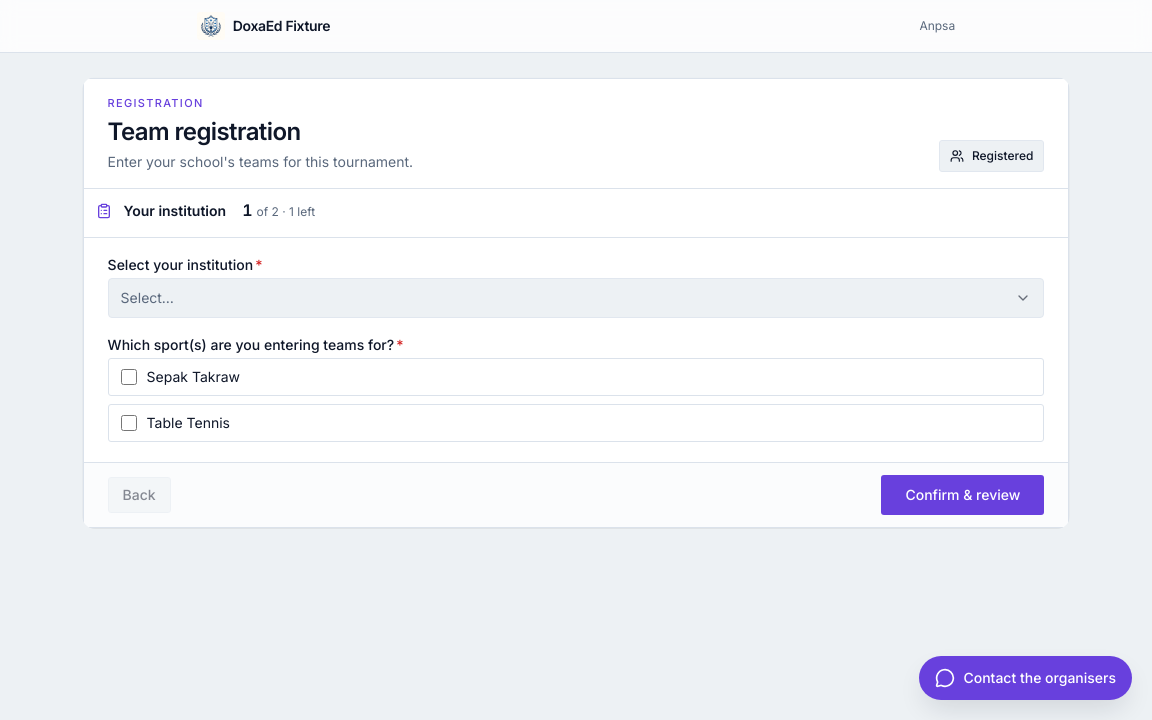
Scenario: PublicFormPage › scopes the team form's sports/categories to the selected school, pre-selected
Expected: the heading "Team registration" is shown, [108, 116, 300, 146]
Expected: the checkbox labelled "Table Tennis" is not checked, [121, 414, 137, 430]
Click the button with aria-label "select your institution": x=147, y=297 [108, 278, 1044, 318]
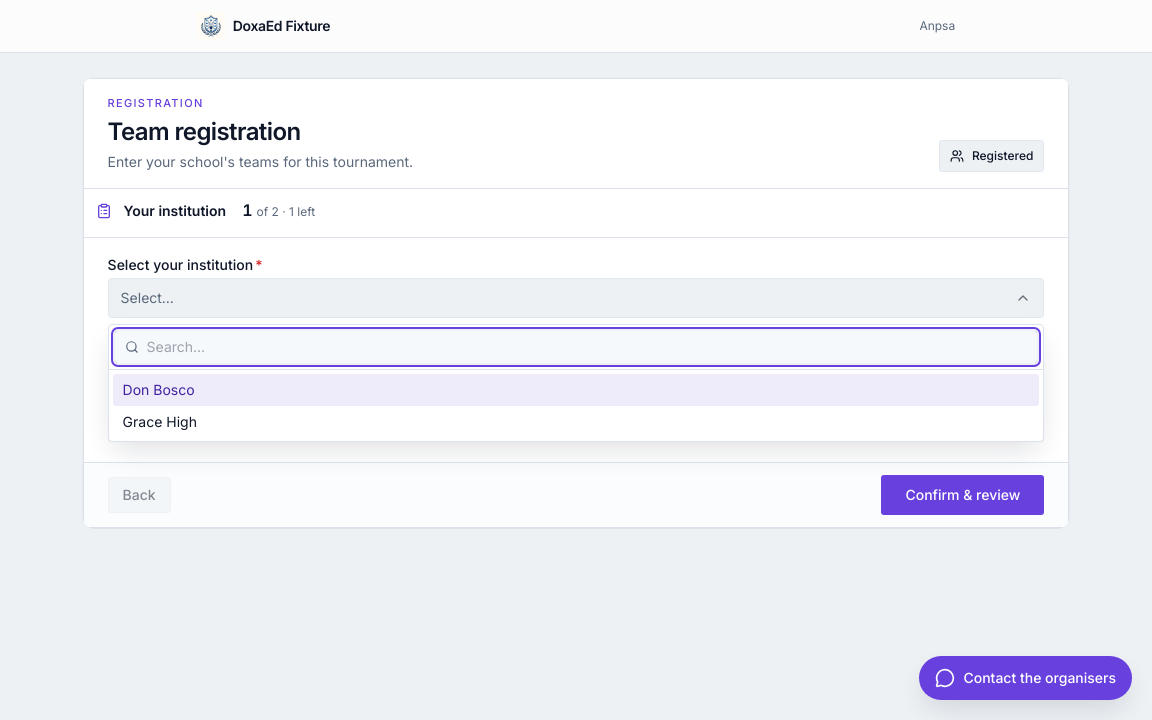
Click the option "Don Bosco": x=159, y=389 [113, 374, 1039, 406]
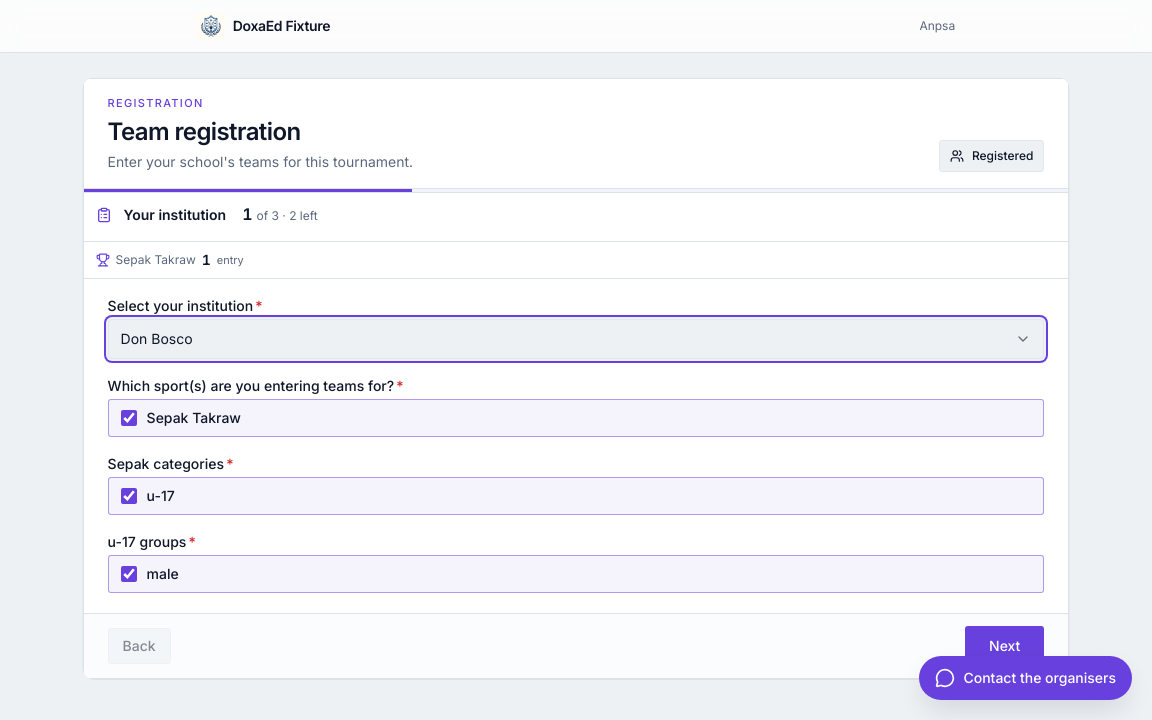
Expected: the checkbox labelled "Sepak Takraw" is checked, [121, 410, 137, 426]
Expected: the text labelled "Table Tennis" is gone
Expected: the checkbox labelled "u-17" is checked, [121, 488, 137, 504]
Note: Next → straight to the team/player section, no manual selection needed.
Click the button "Next": x=1005, y=646 [965, 626, 1044, 666]
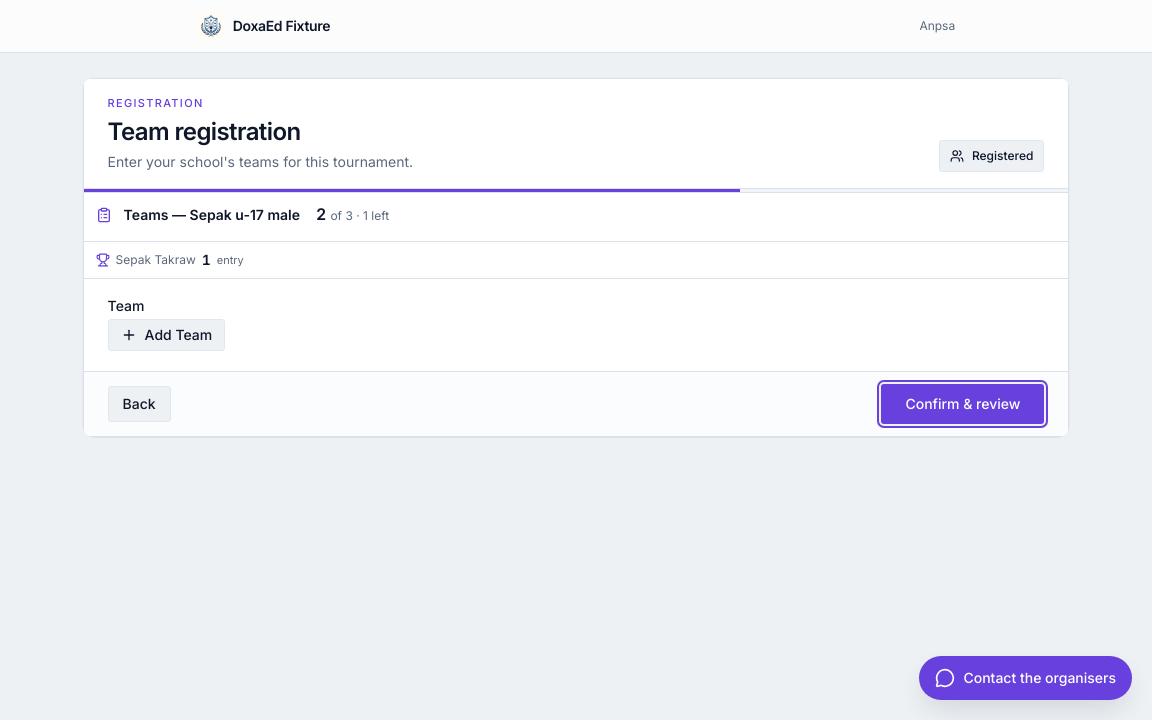
Expected: the heading "Teams — Sepak u-17 male" is shown, [124, 204, 300, 224]
Note: Switching school re-scopes: Grace High registered Table Tennis only.
Click the button "Back": x=139, y=404 [108, 386, 171, 422]
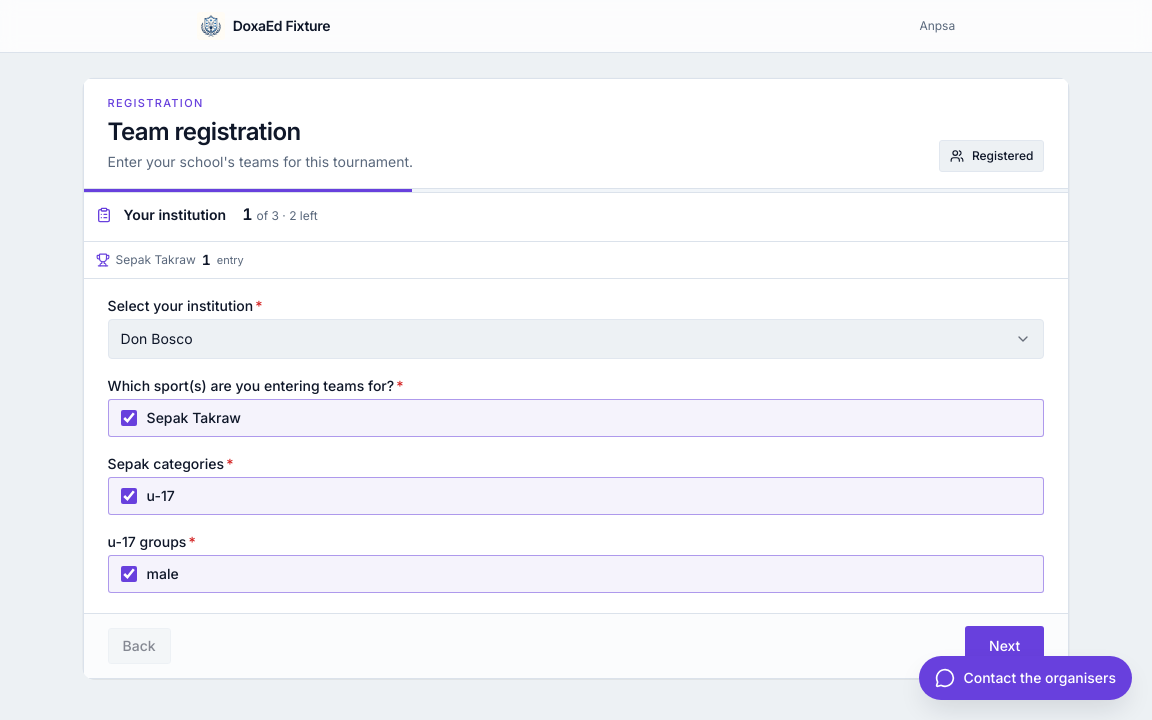
Click the button with aria-label "select your institution": x=157, y=338 [108, 318, 1044, 358]
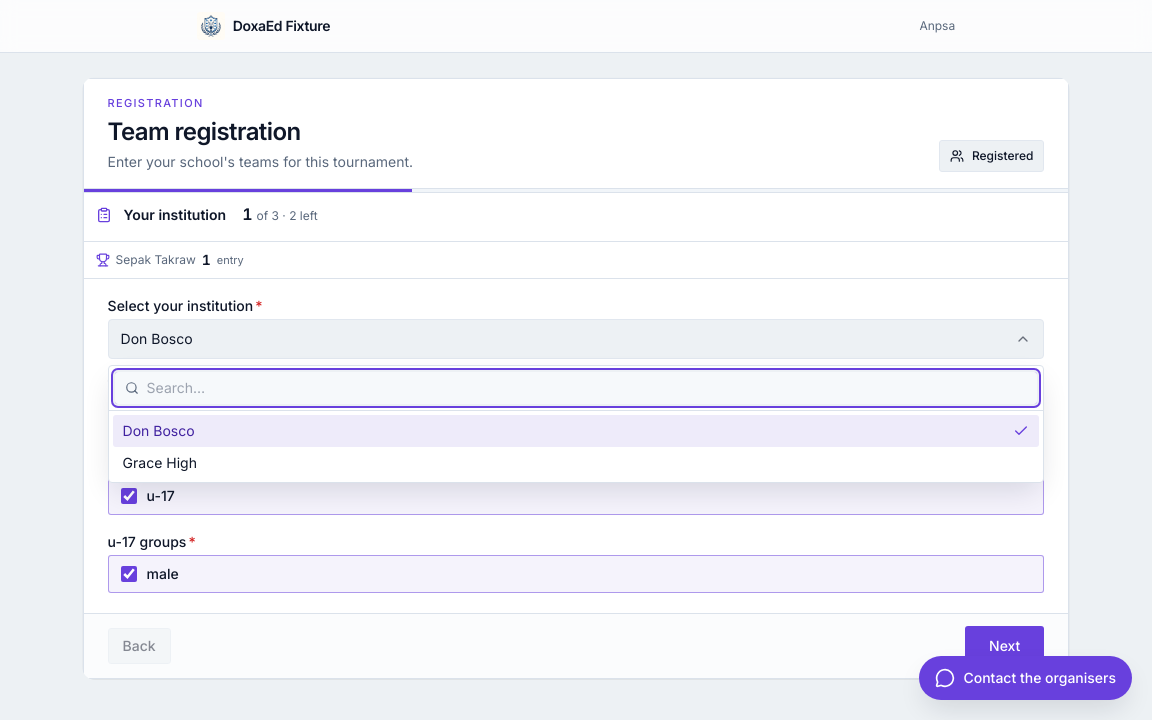
Click the option "Grace High": x=160, y=462 [123, 454, 197, 470]
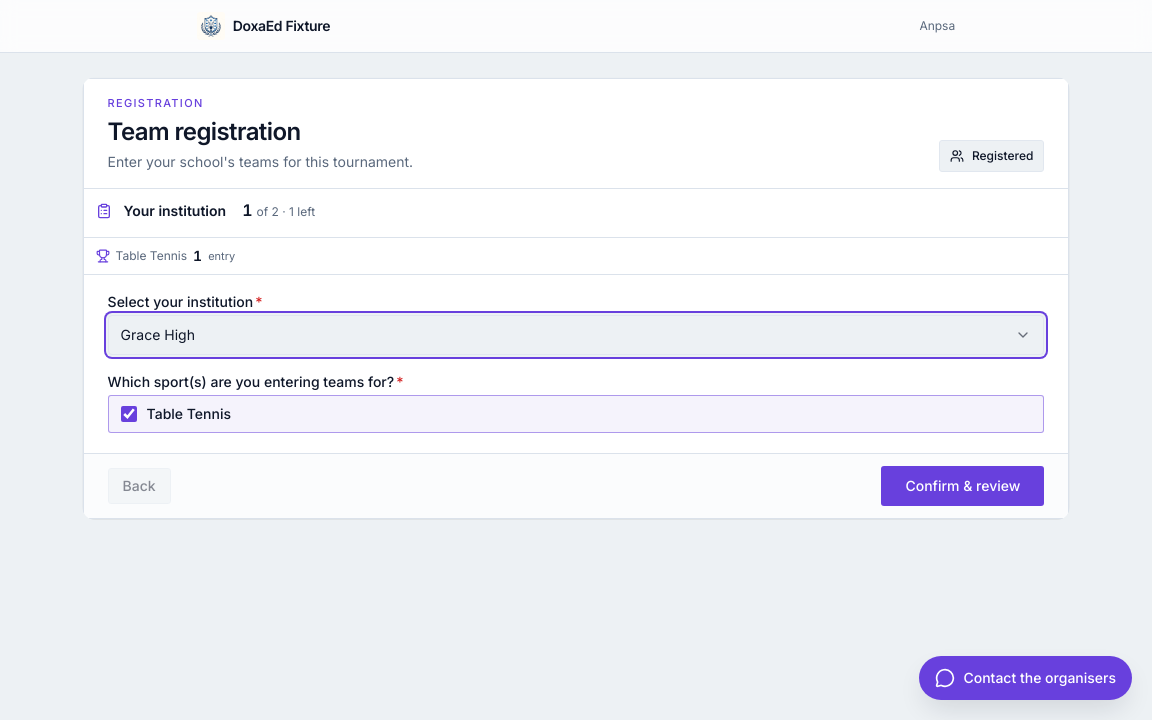
Expected: the checkbox labelled "Table Tennis" is checked, [121, 406, 137, 422]
Expected: the field labelled "Sepak Takraw" is gone
